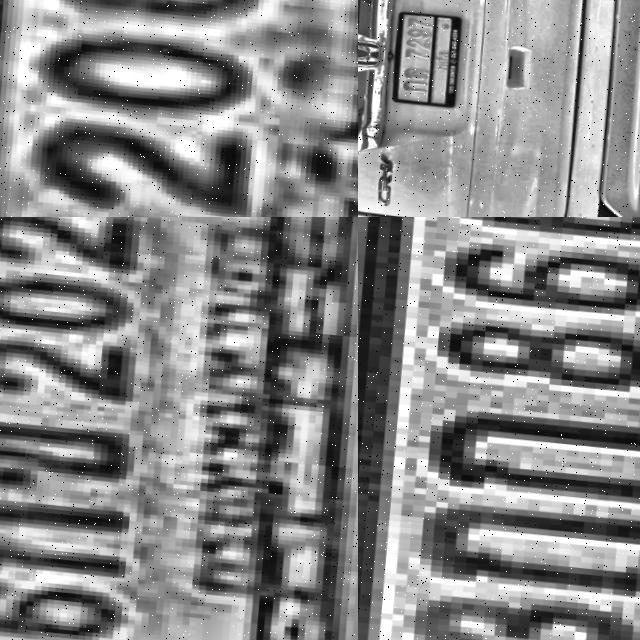license-plate: (0, 217, 358, 640), (358, 217, 640, 640), (0, 0, 358, 217), (384, 7, 465, 108)
